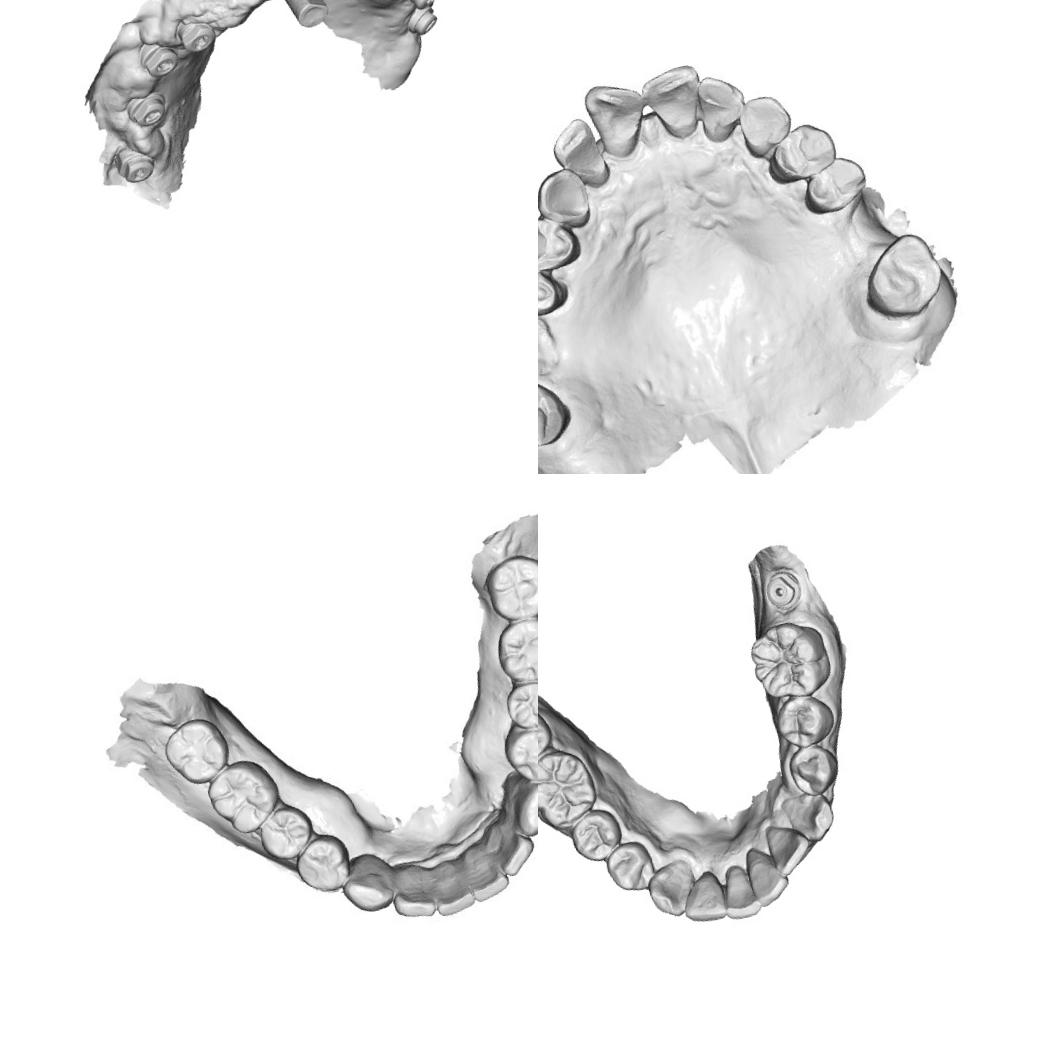canine: (335, 848, 401, 918), (734, 88, 797, 158), (538, 164, 599, 235), (642, 856, 702, 922), (778, 787, 838, 848), (501, 766, 538, 839)
implant: (760, 562, 806, 618), (265, 0, 334, 37)
implant_minus: (136, 33, 188, 81), (125, 88, 173, 134), (175, 13, 219, 62), (112, 144, 158, 187), (403, 2, 442, 39), (407, 0, 444, 11)
incisor: (578, 72, 654, 165), (638, 62, 710, 144), (684, 67, 752, 147), (546, 112, 610, 188), (741, 840, 794, 910), (484, 815, 538, 879), (386, 860, 437, 924), (762, 818, 815, 878), (426, 856, 477, 918), (676, 868, 729, 927), (462, 843, 512, 903), (717, 860, 764, 922)
molar: (855, 227, 948, 325), (742, 614, 836, 706), (201, 754, 286, 839), (158, 712, 235, 790), (538, 744, 603, 836), (480, 549, 538, 623), (538, 364, 581, 457), (491, 613, 538, 689), (538, 691, 559, 779)
premolar: (801, 148, 873, 216), (290, 829, 356, 898), (770, 688, 839, 752), (254, 800, 318, 865), (769, 122, 836, 180), (783, 739, 844, 801), (566, 804, 627, 866), (602, 836, 659, 898), (500, 719, 538, 789), (538, 214, 576, 272), (502, 677, 538, 735), (538, 262, 562, 319)
